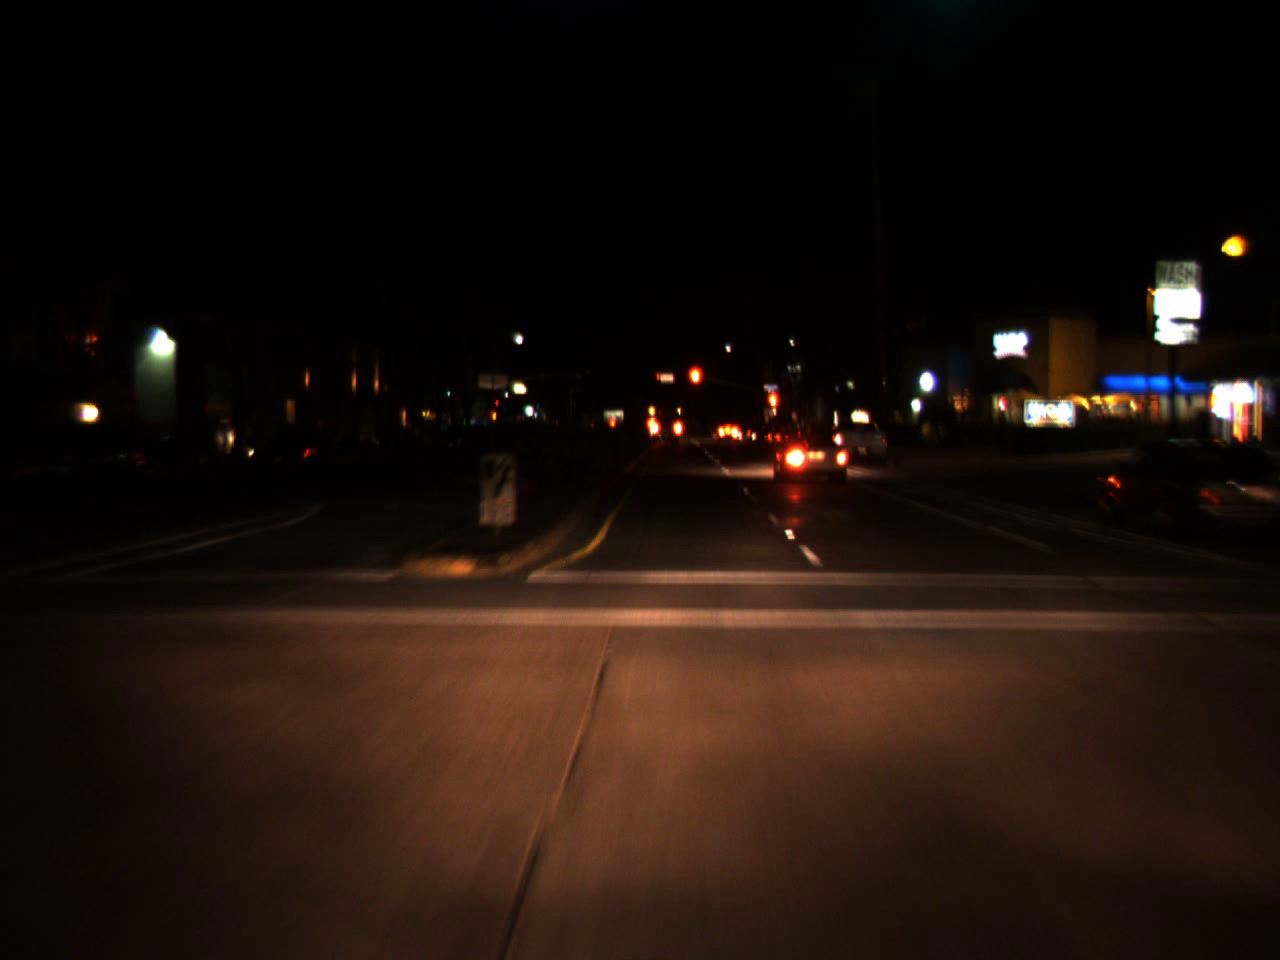stop: (685, 364, 703, 407), (765, 388, 780, 431), (653, 371, 660, 384)
